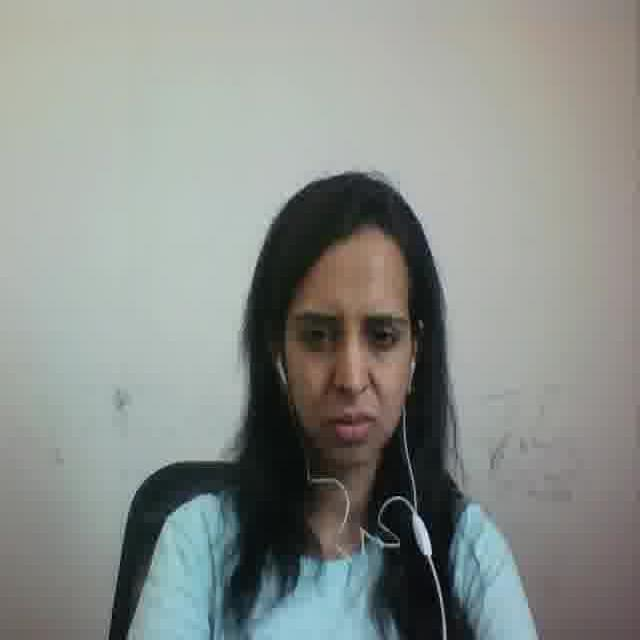Boredom: (277, 241, 407, 471)
